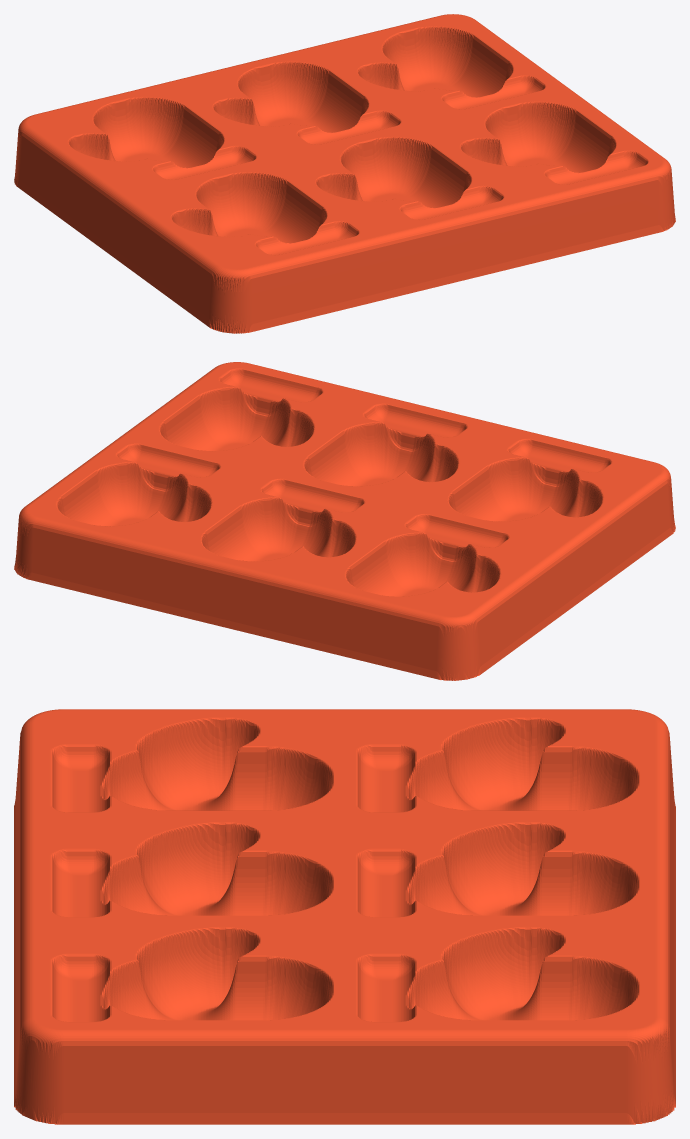
The model's file is mold.glb.
3 renders of one model, top to bottom at view 1: azimuth 30°, elevation 25°; view 2: azimuth 150°, elevation 25°; view 3: azimuth 270°, elevation 25°, orthographic. The views are drawn at different scales.
Parts seen in each view (by area): view 1: geometry_0; view 2: geometry_0; view 3: geometry_0.
Part boxes in pixels (x1,y1,x2,y2): geometry_0: [14, 14, 675, 333]; geometry_0: [14, 362, 675, 680]; geometry_0: [14, 709, 675, 1124].
Size of the model in its own units: 0.1454 by 0.0175 by 0.1211.
